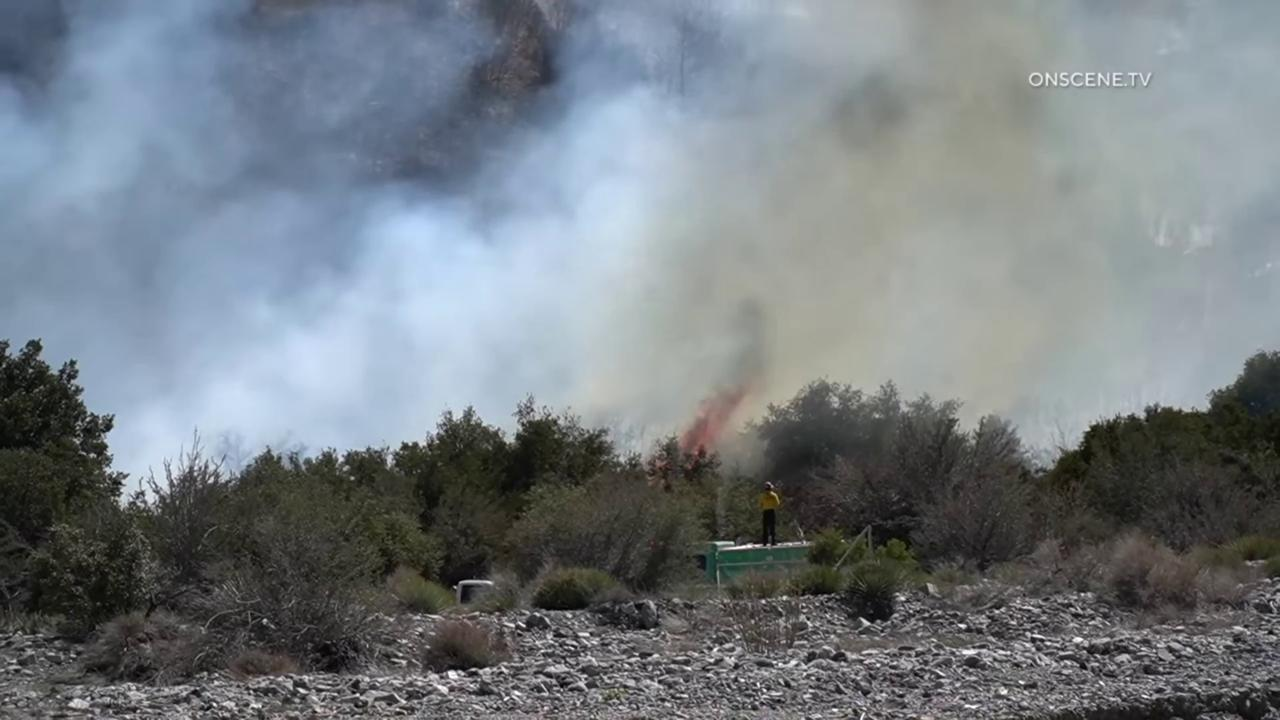fire: (678, 407, 728, 470)
smoke: (0, 0, 1280, 508)
